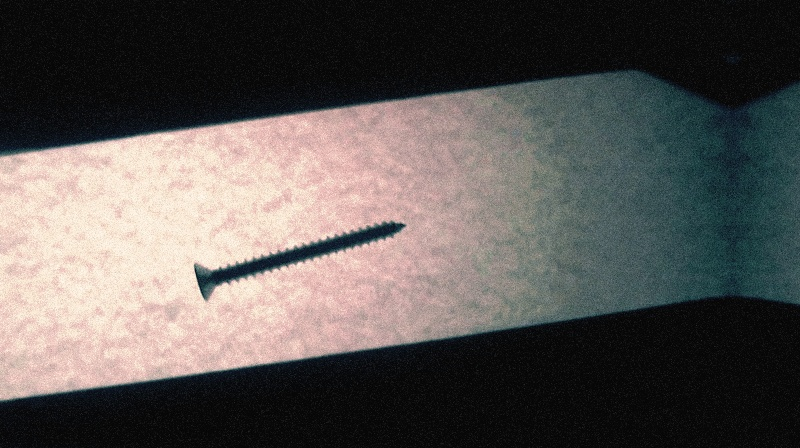S002: (190, 219, 411, 305)
